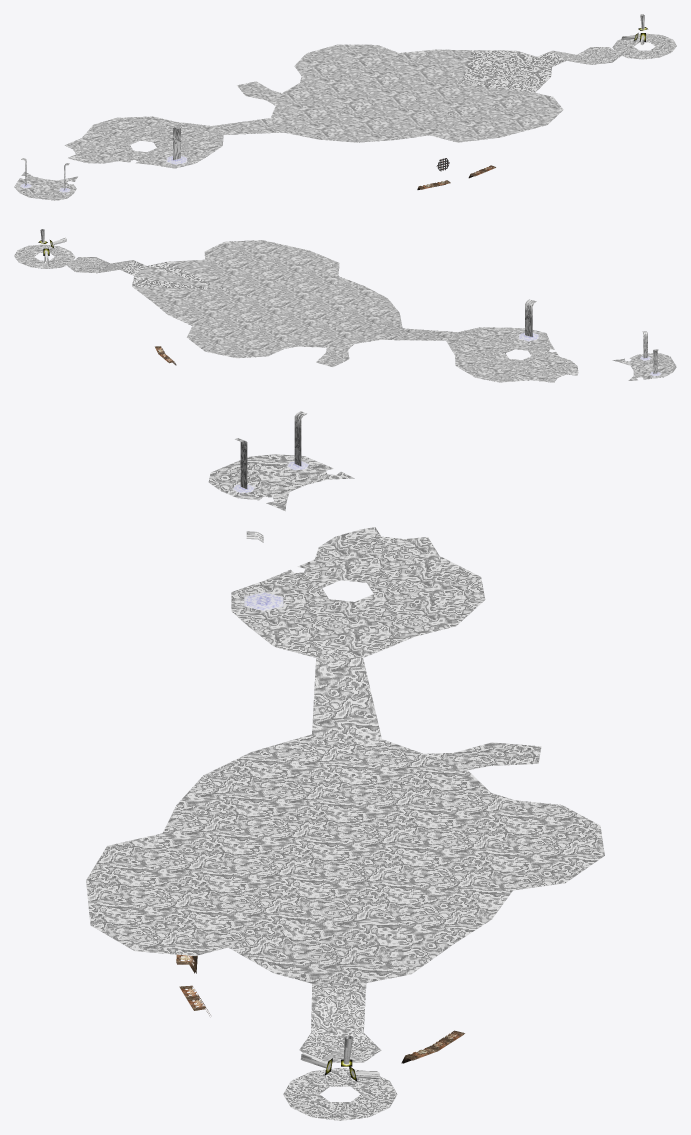
The model's file is Clanker's Cavern Water.DAE.
The picture shows the model from 3 angles, top to bottom: view 1: azimuth 30°, elevation 25°; view 2: azimuth 150°, elevation 25°; view 3: azimuth 270°, elevation 25°; orthographic projection. The views are drawn at different scales.
Parts seen in each view (by area): view 1: Main_contiguous_body_of_water, Small_Water_Pool_, Radioactive_pool, Waterfalls; view 2: Main_contiguous_body_of_water, Radioactive_pool, Small_Water_Pool_, Waterfalls; view 3: Main_contiguous_body_of_water, Radioactive_pool, Small_Water_Pool_.
Part boxes in pixels (x1,y1,x2,y2): Main_contiguous_body_of_water: (64,44,620,168); Small_Water_Pool_: (14,172,77,200); Radioactive_pool: (612,33,676,59); Waterfalls: (21,125,184,190); Main_contiguous_body_of_water: (67,240,578,382); Radioactive_pool: (14,244,75,268); Small_Water_Pool_: (612,353,676,380); Waterfalls: (525,299,658,373); Main_contiguous_body_of_water: (86,527,604,1062); Radioactive_pool: (283,1067,397,1120); Small_Water_Pool_: (208,454,354,511).
Size of the model in its own units: 25062 by 8812 by 3857.
Materials: 6 (6 with a texture image).
